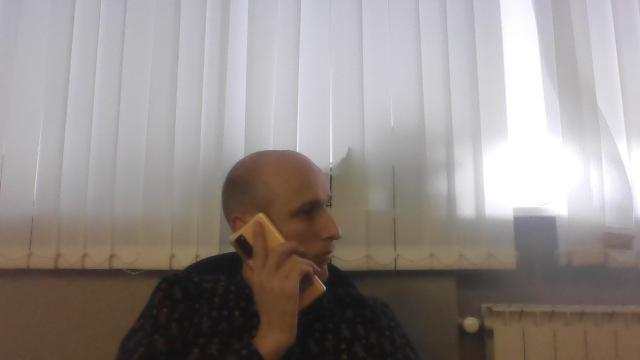PhoneUse: (226, 210, 328, 312)
